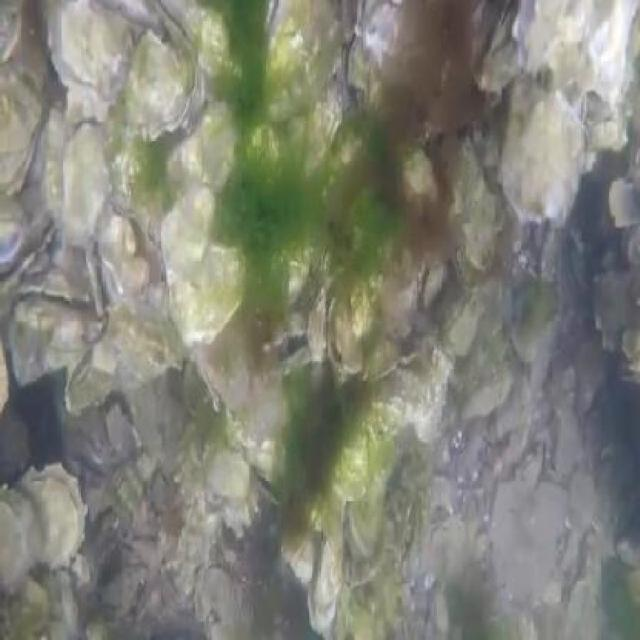Oyster-Closed: (514, 0, 640, 100), (265, 0, 340, 127), (0, 5, 45, 198), (51, 0, 130, 104), (128, 31, 198, 138), (343, 0, 418, 99), (347, 431, 397, 549), (308, 517, 345, 634), (145, 0, 205, 54), (443, 289, 482, 357), (307, 287, 327, 361)
Oyster-Indeterminate: (501, 75, 582, 223), (72, 311, 183, 409), (174, 245, 247, 350), (169, 107, 238, 202), (61, 119, 112, 246), (158, 181, 216, 282), (329, 394, 381, 501), (0, 486, 42, 590), (514, 281, 562, 366), (305, 79, 342, 176), (461, 364, 510, 421), (205, 443, 249, 497)
Oyster-Open: (8, 269, 91, 386), (14, 464, 89, 572), (94, 208, 162, 305), (264, 312, 311, 384), (328, 289, 362, 382), (454, 220, 494, 292), (418, 245, 450, 312), (251, 461, 291, 509)
